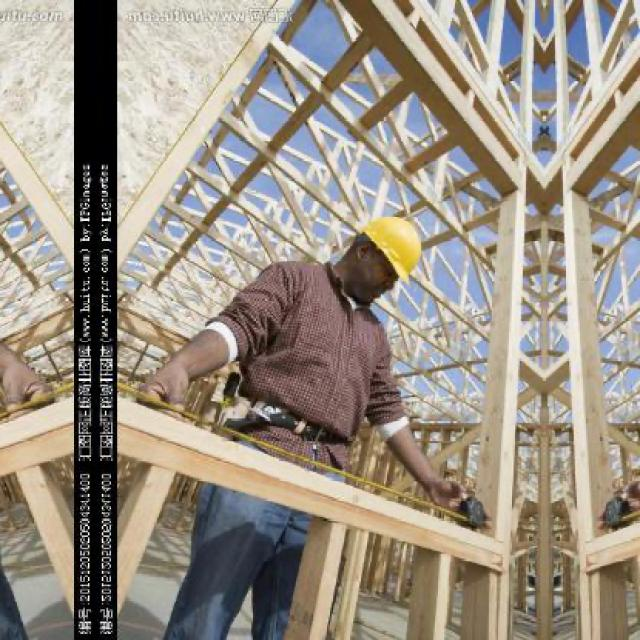con casco: (305, 185, 450, 336)
